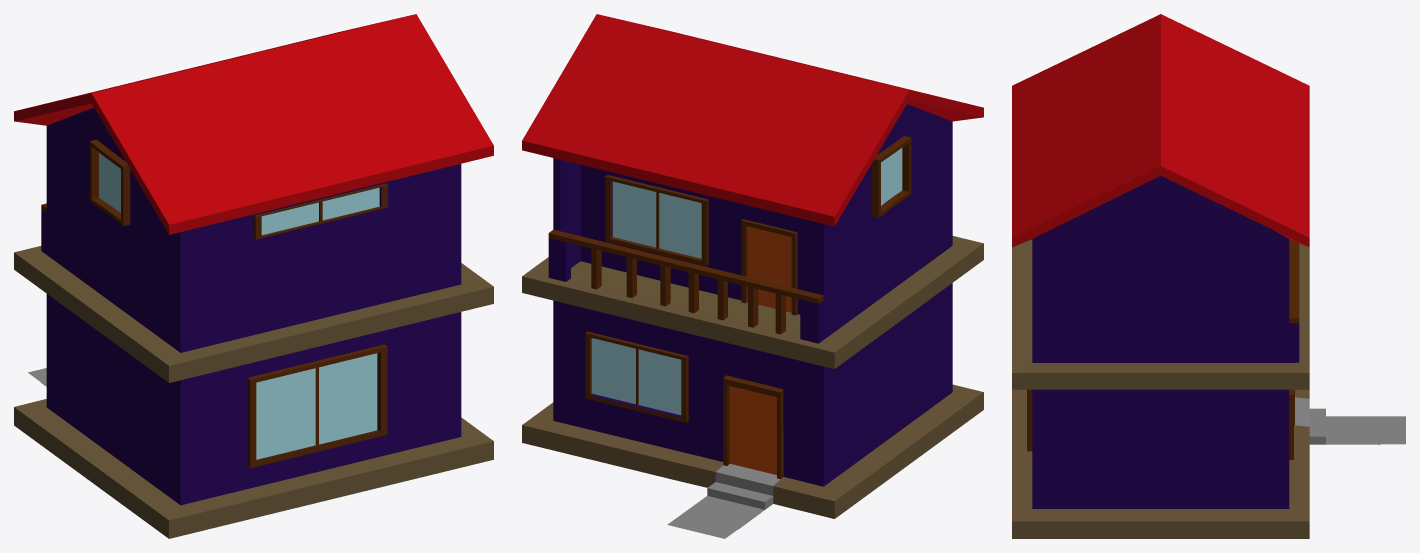
The model's file is house-2F.fbx.
The picture shows the model from 3 angles, left to right: view 1: azimuth 30°, elevation 25°; view 2: azimuth 150°, elevation 25°; view 3: azimuth 270°, elevation 25°; orthographic projection. The views are drawn at different scales.
Parts seen in each view (by area): view 1: Cube; view 2: Cube; view 3: Cube.
Boxes of the visible parts, left/top/right/bottom form: Cube: left=14, top=14, right=493, bottom=538; Cube: left=522, top=14, right=983, bottom=538; Cube: left=1012, top=14, right=1405, bottom=538.
Size of the model in its own units: 1313 by 1502 by 1437.
